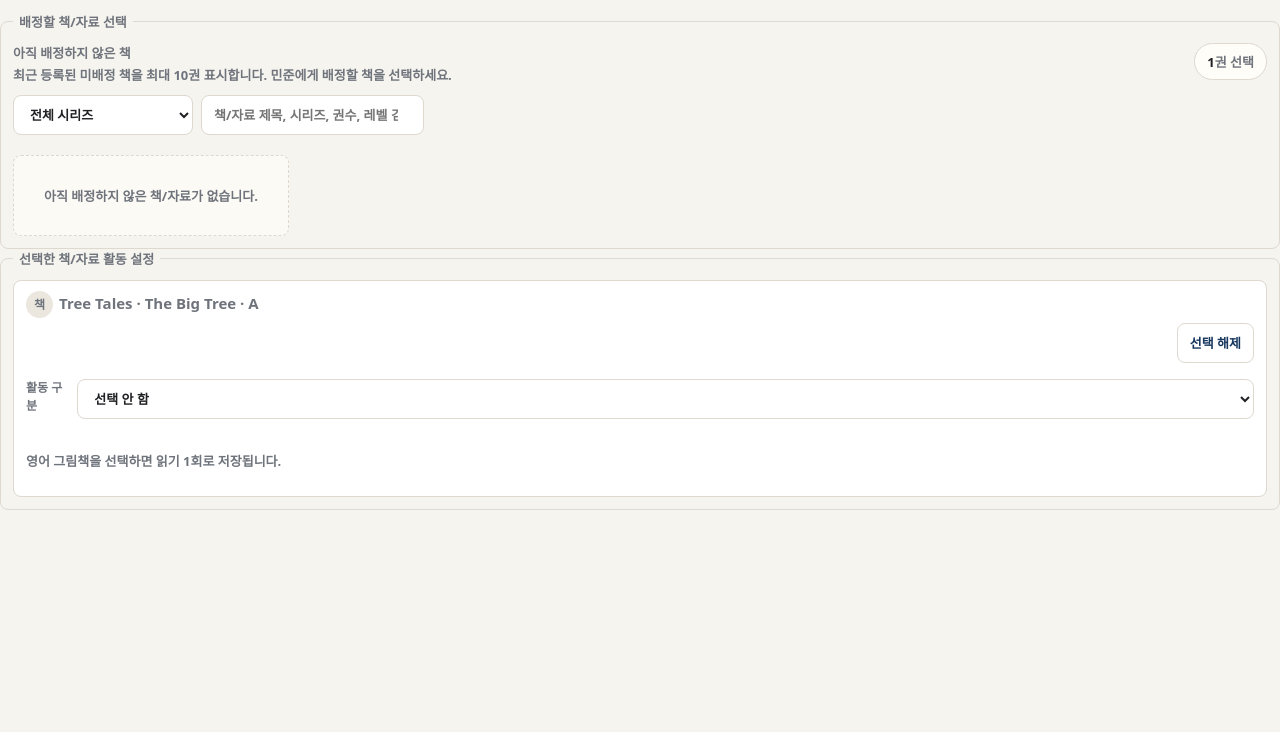
Test: D06-E02: 활동을 기타학습으로 바꾸면 이전 활동의 task와 퀴즈 control을 제거하고 필사 1회를 기본값으로 둔다
This screenshot has width=1280, height=732.
Select "영어 그림책" in the dropdown labelled "활동 구분": [666, 399] box 77,379 -> 1254,419
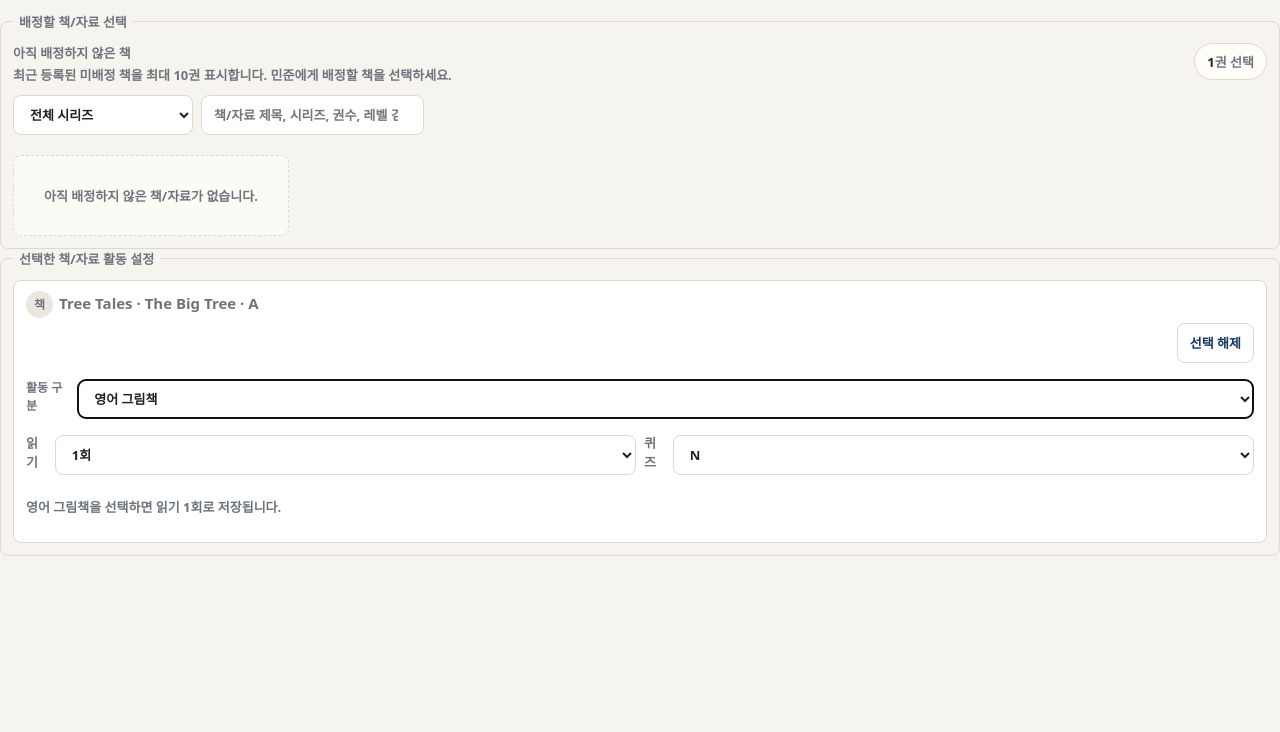
Select "기타학습" in the dropdown labelled "활동 구분": [666, 399] box 77,379 -> 1254,419
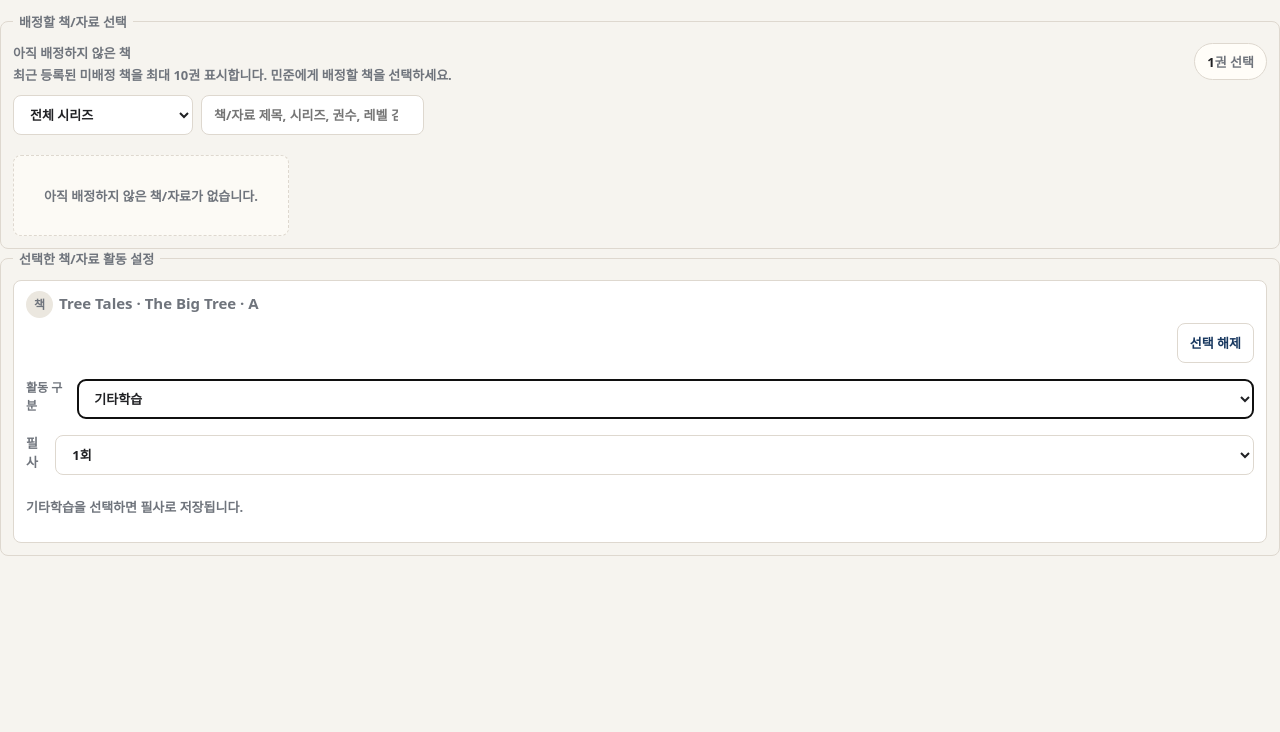
Result: the text "읽기" is gone
Result: the text "퀴즈" is gone
Result: the dropdown labelled "필사" shows "1회" at 55,435 -> 1254,475
